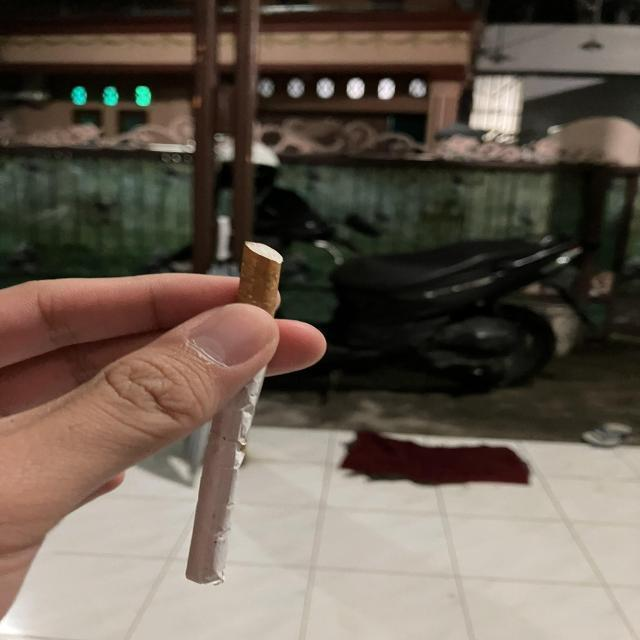rokok: (182, 234, 280, 582)
